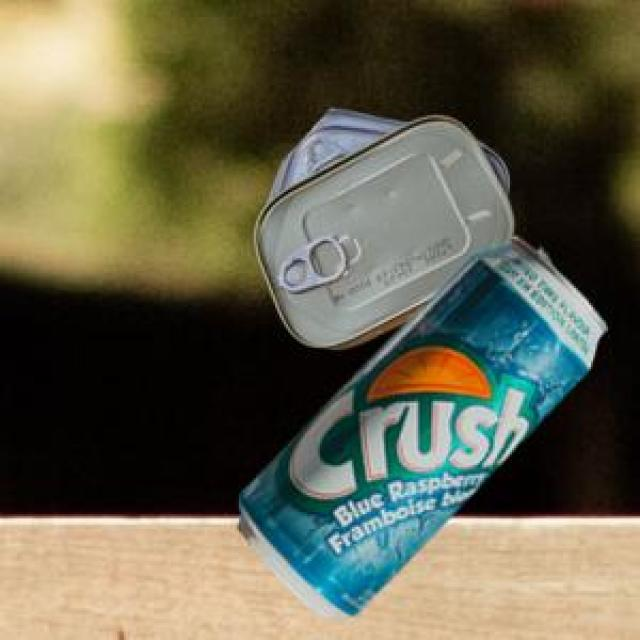logam: (236, 234, 603, 615), (253, 106, 511, 347)
